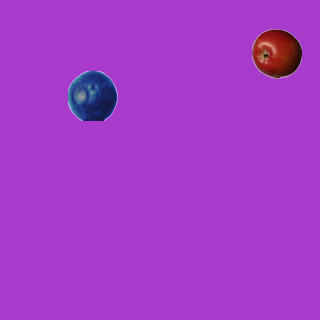Apple Braeburn: (251, 28, 301, 78)
Huckleberry: (67, 70, 117, 120)
